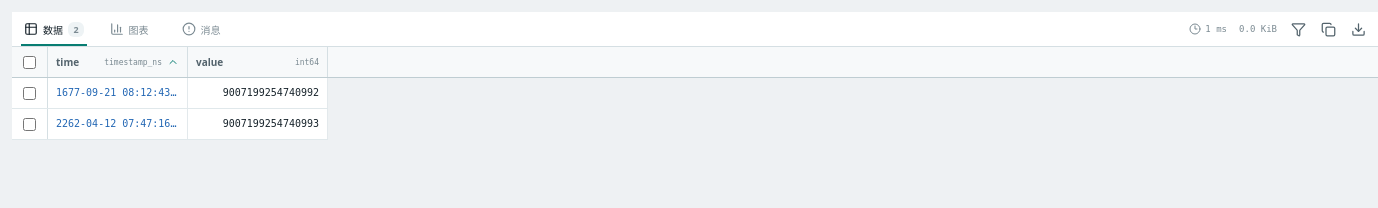
Test: ResultPane inline export menu › shows selected and total row counts without opening the task drawer
Click the checkbox named "选择结果行 row-1" at point(30, 93), box [23,86,36,100]
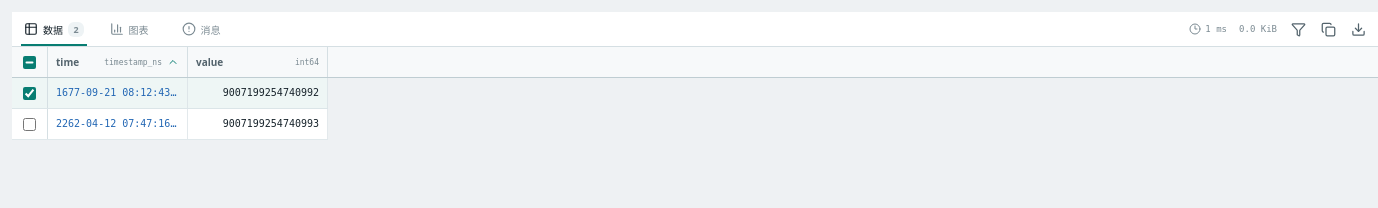
Press the mouse on the button named "导出结果" at point(1358, 29), box [1344,15,1372,43]
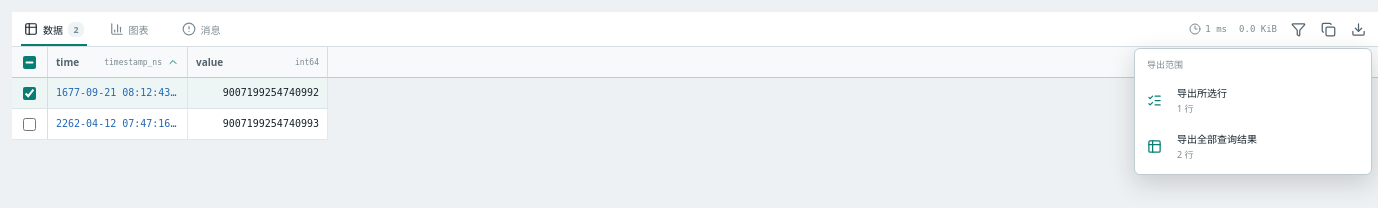
Result: the menu item "导出所选行 1 行" is shown at [1147,86,1227,115]
Result: the menu item "导出全部查询结果 2 行" is shown at [1147,132,1257,161]
